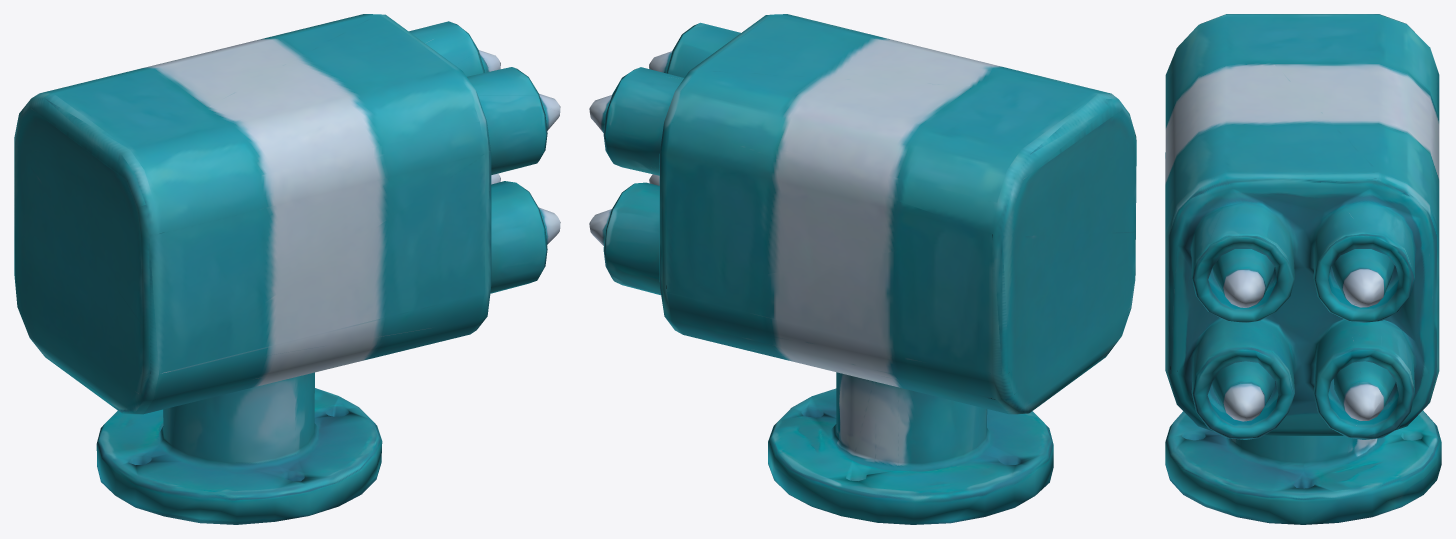
File: weapon_rockets.glb
3 renders of one model, left to right at view 1: azimuth 30°, elevation 25°; view 2: azimuth 150°, elevation 25°; view 3: azimuth 270°, elevation 25°, orthographic.
Parts seen in each view (by area): view 1: geometry_0; view 2: geometry_0; view 3: geometry_0.
Boxes of the visible parts, x1,y1,x2,y2 form: geometry_0: (14,14,560,524); geometry_0: (589,14,1136,524); geometry_0: (1165,14,1441,524).
Bounding box in the file's own units: 0.958 × 0.7666 × 0.5073.
1 material, 1 textured.
